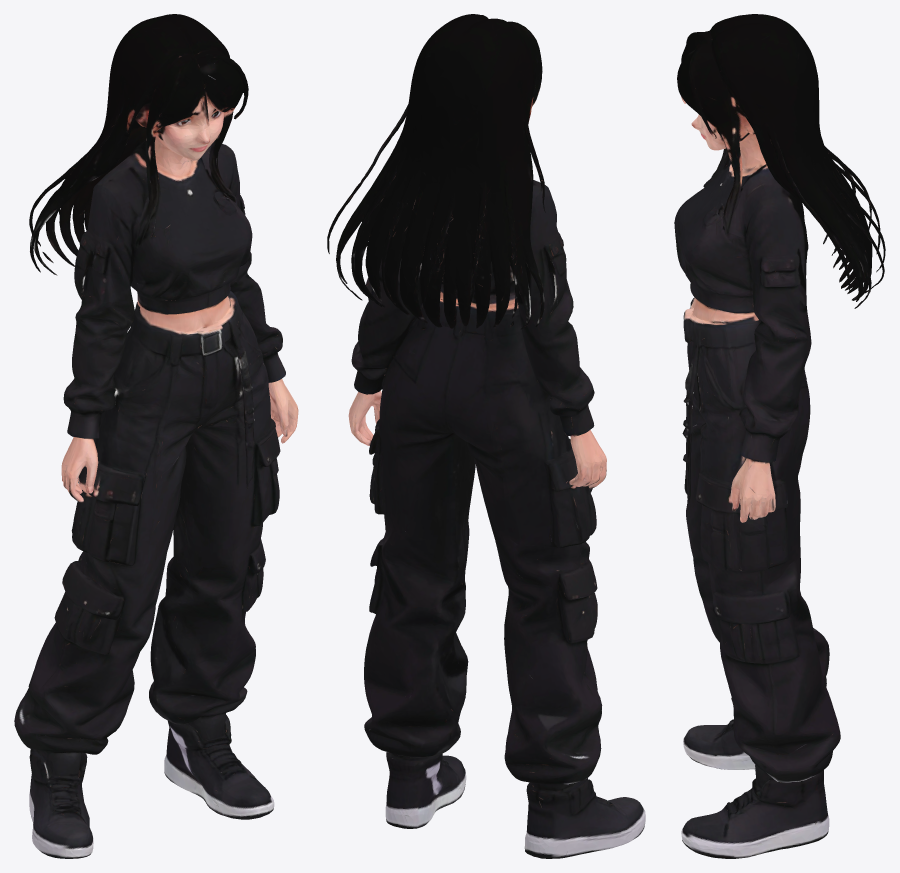
File: personagem feminina.glb
3 views of the same model, side by side, from view 1: azimuth 30°, elevation 25°; view 2: azimuth 150°, elevation 25°; view 3: azimuth 270°, elevation 25° (orthographic).
Parts seen in each view (by area): view 1: world; view 2: world; view 3: world.
Part boxes in pixels (<box>): world: <box>14,14,298,858</box>; world: <box>327,14,645,858</box>; world: <box>674,14,885,858</box>.
Bounding box in the file's own units: 0.7072 × 1.99 × 0.4751.
Materials: 1 (1 with a texture image).
